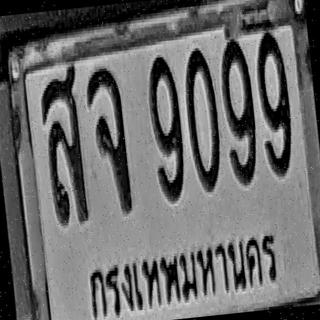A08: (84, 64, 133, 214)
A40: (37, 62, 91, 225)
N00: (181, 45, 225, 192)
N09: (217, 34, 260, 185), (253, 26, 296, 175), (145, 53, 188, 202)
P04: (80, 218, 290, 320)
